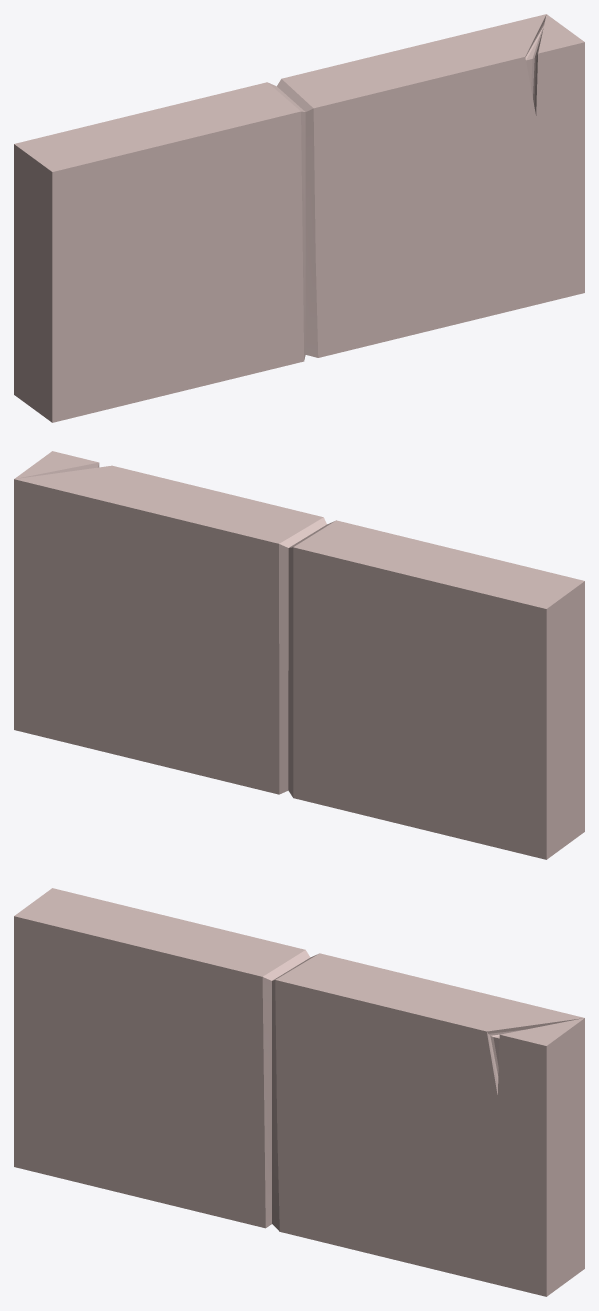
File: ConcreteWall_Model_V01.fbx
3 renders of one model, top to bottom at view 1: azimuth 30°, elevation 25°; view 2: azimuth 150°, elevation 25°; view 3: azimuth 330°, elevation 25°, orthographic.
Visible parts, largest first — view 1: pCube1; view 2: pCube1; view 3: pCube1.
Boxes of the visible parts, x1,y1,x2,y2 form: pCube1: [14, 14, 584, 422]; pCube1: [14, 451, 584, 859]; pCube1: [14, 888, 584, 1296].
Bounding box in the file's own units: 400 × 180 × 50.
1 material, 1 textured.
